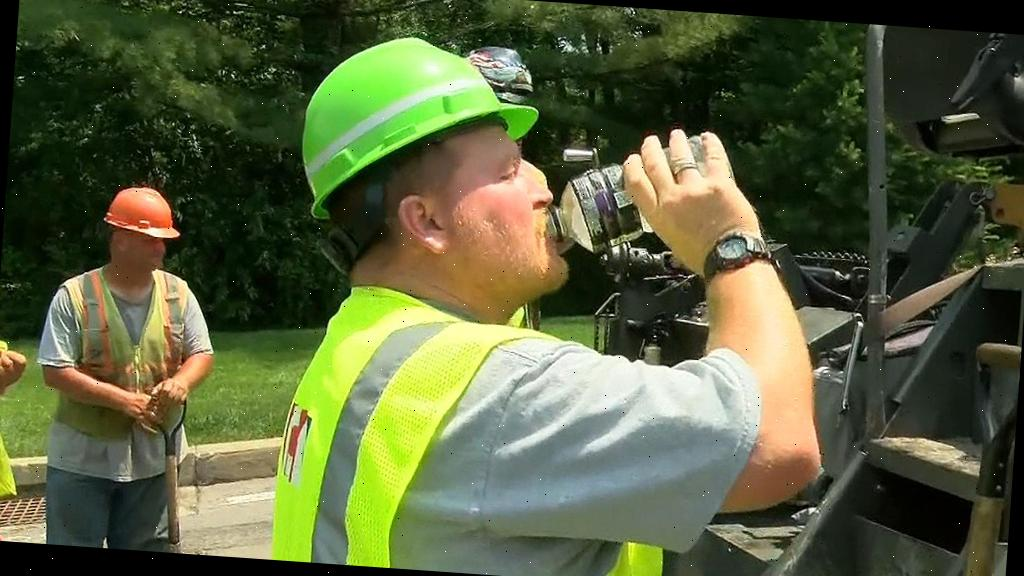helmet: (290, 23, 553, 246), (100, 184, 182, 246)
wear: (270, 302, 689, 576), (52, 270, 198, 474)
